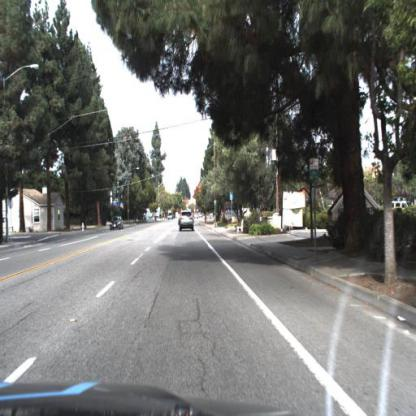car: (179, 209, 197, 234), (108, 211, 126, 234)
